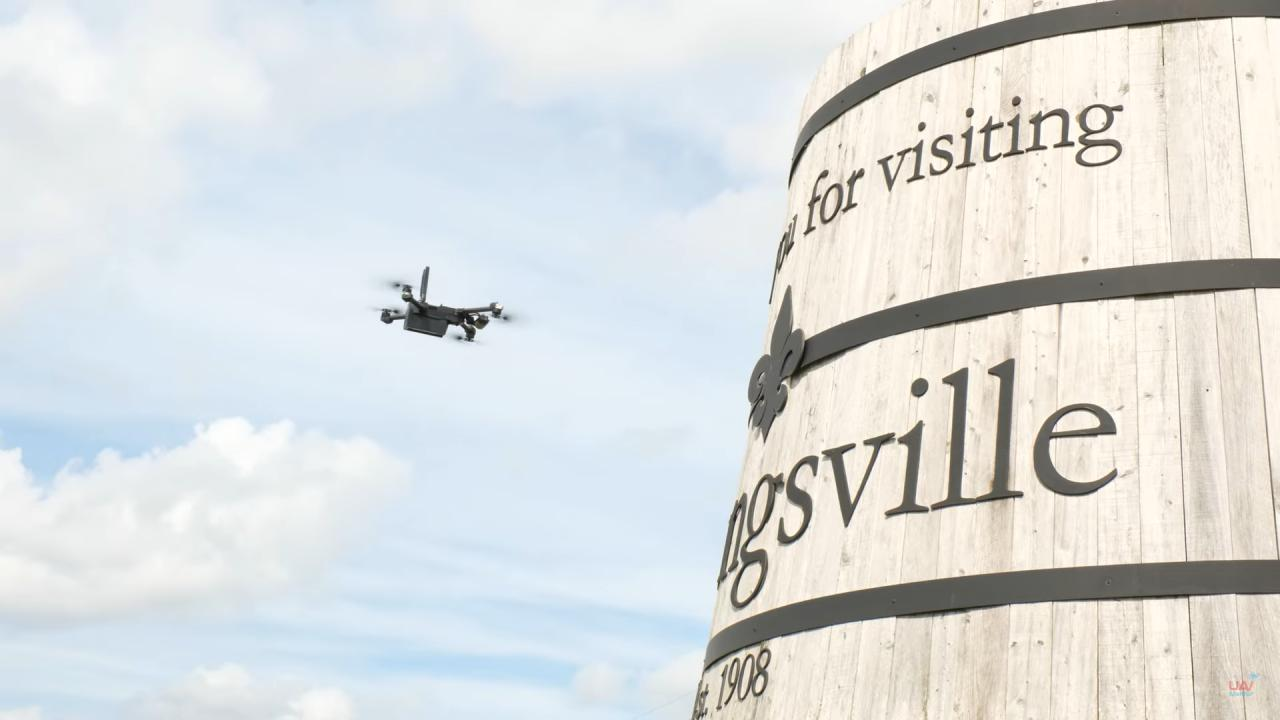Drone: (356, 259, 528, 361)
